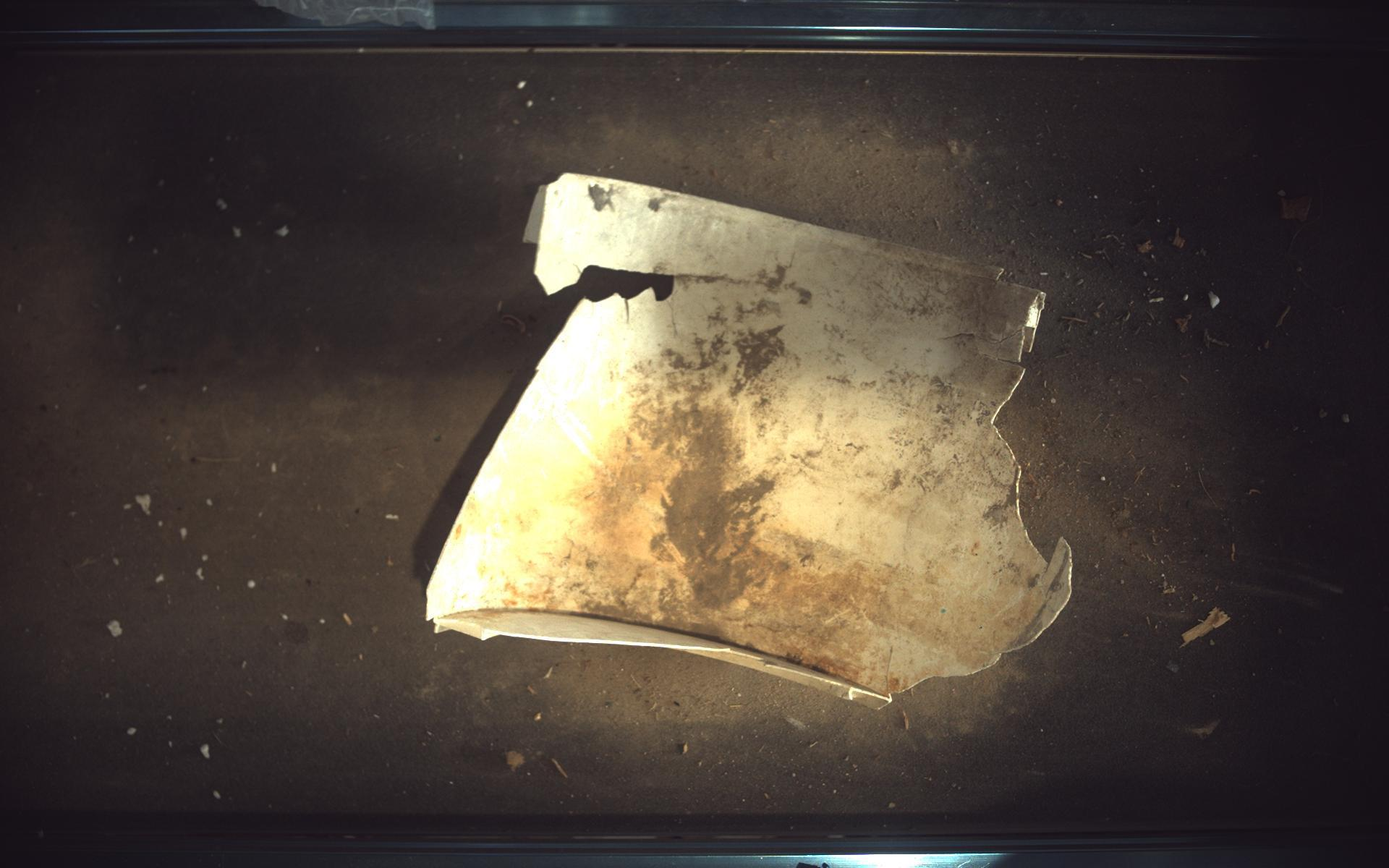plastic: (427, 173, 1074, 707)
